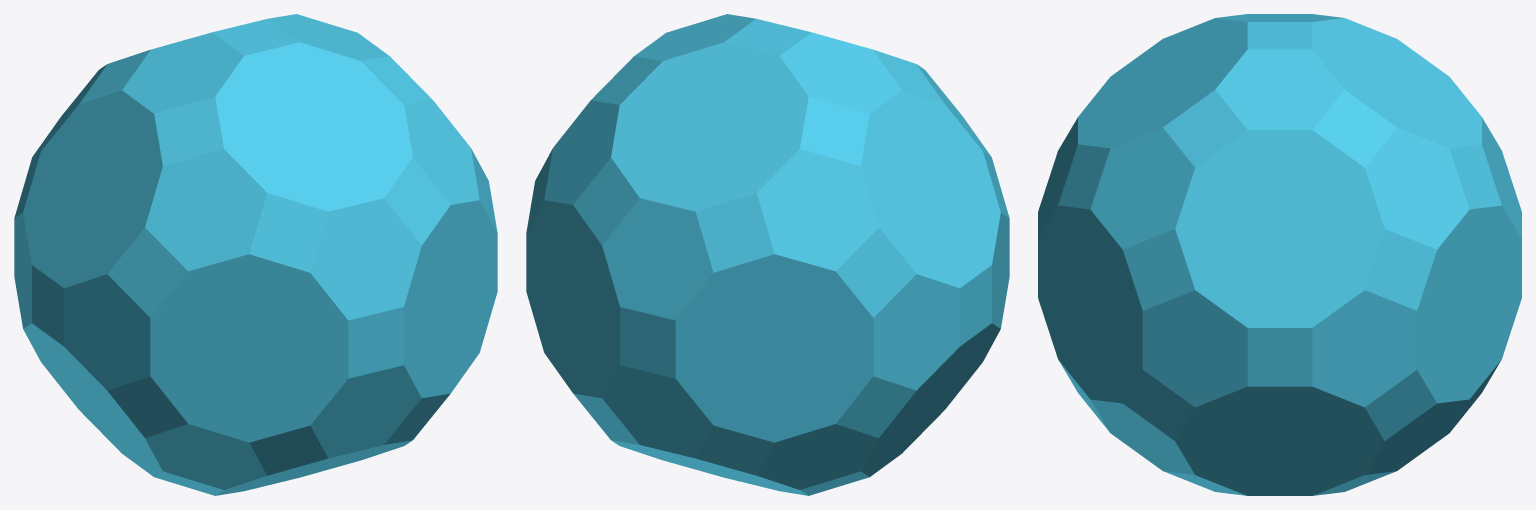
File: fractaltruncatedicosidodecahedron0.glb
The picture shows the model from 3 angles, left to right: view 1: azimuth 30°, elevation 25°; view 2: azimuth 150°, elevation 25°; view 3: azimuth 270°, elevation 25°; orthographic projection.
Bounding box in the file's own units: 11.93 × 11.93 × 11.93.
